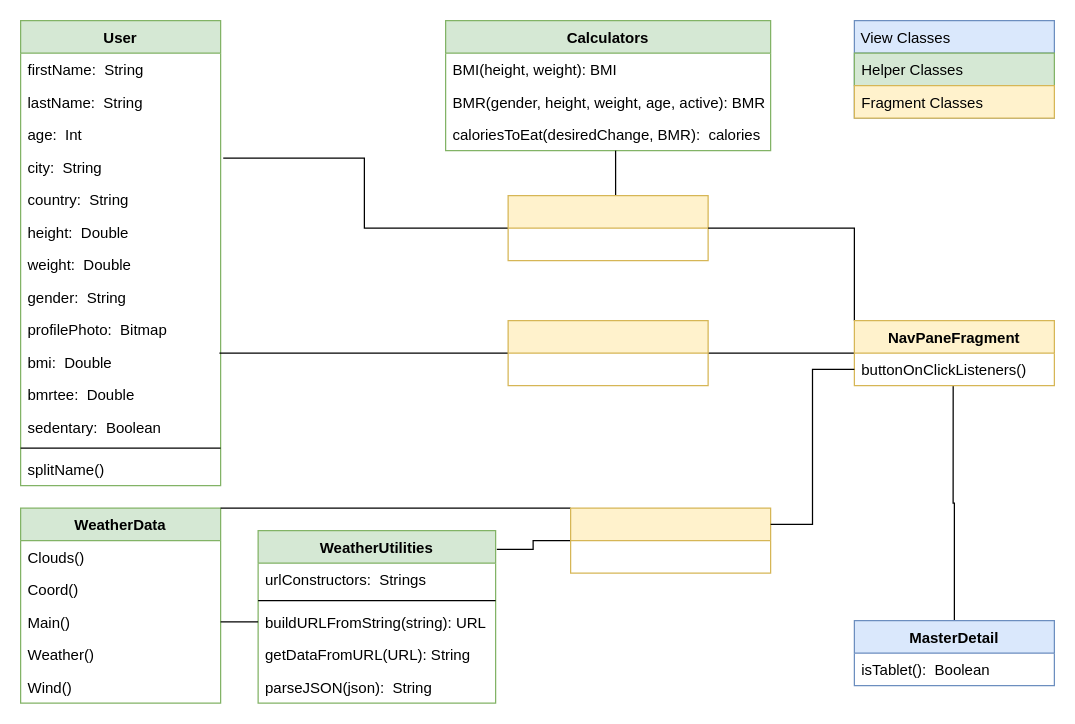
Some shapes in this 1075 by 724 pixel diagram are drawn without their labels. Each missing label, with the centre of its shape:
"ProfilePageFragment" goes at point 607,352.
"WeatherFragment" goes at point 670,540.
"WeightManFragment" goes at point 607,227.
